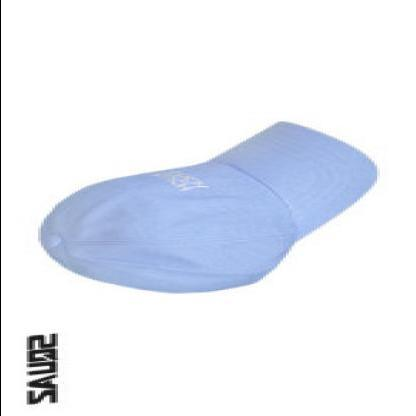cap: (23, 114, 388, 298)
